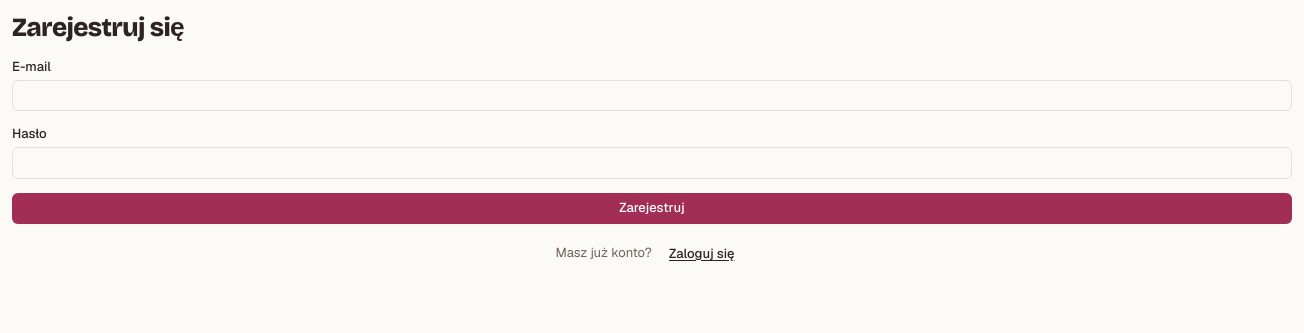
Test case: auth submit paths › signup without a session shows the email-confirmation notice as status
This screenshot has width=1304, height=333.
Type "a@b.pl" into the field labelled "E-mail".
click(652, 95); type("a@b.pl")  # box [12,80,1292,111]
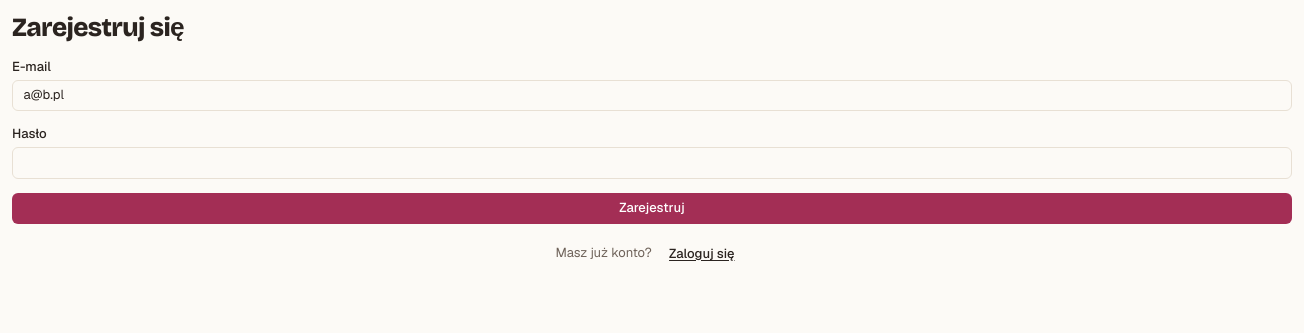
Type "secret1" into the password field labelled "Hasło".
click(652, 163); type("secret1")  # box [12,147,1292,179]
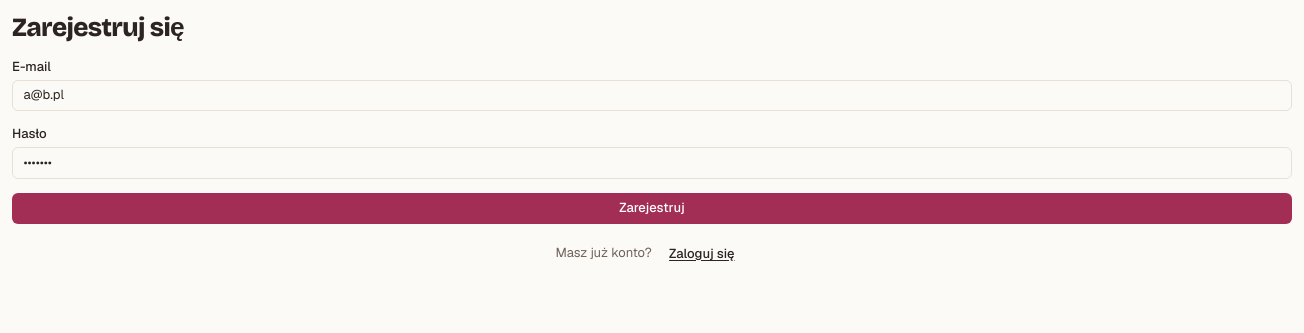
Submit the form
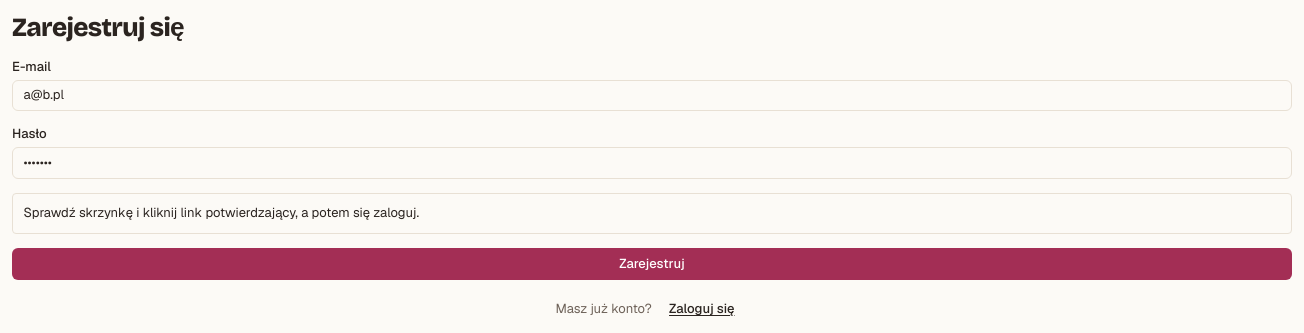
expect the message shows "link potwierdzający": met, box [24,204,419,221]
